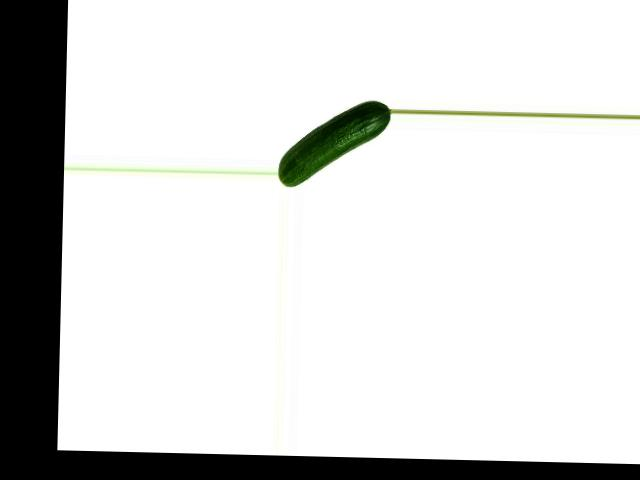cucumber: (277, 97, 392, 188)
